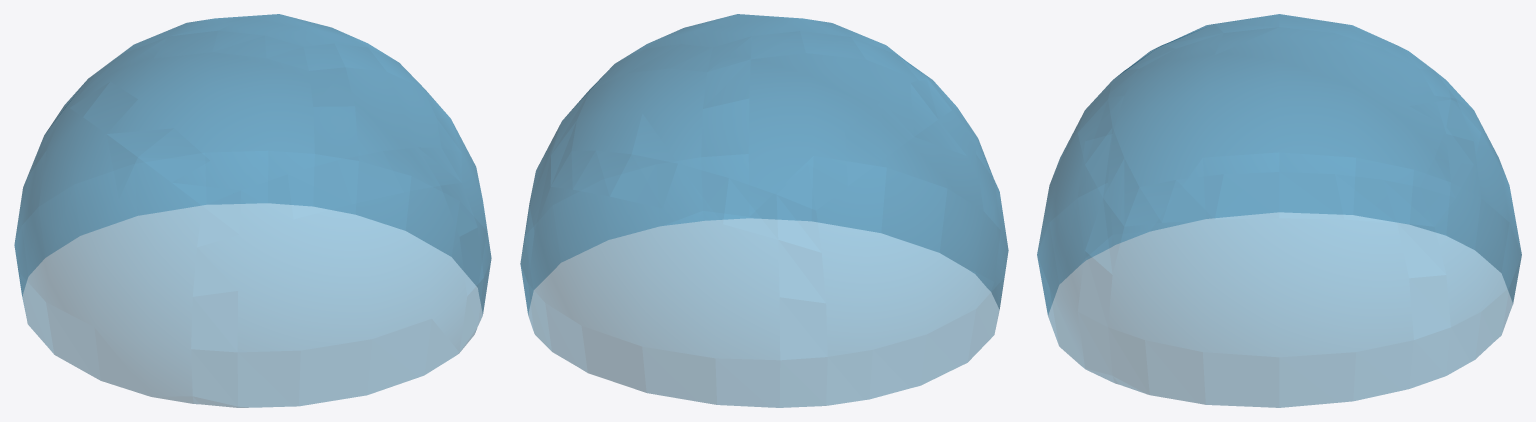
The model's file is aura_bubble.glb.
3 renders of one model, left to right at view 1: azimuth 30°, elevation 25°; view 2: azimuth 150°, elevation 25°; view 3: azimuth 270°, elevation 25°, orthographic. The views are drawn at different scales.
Parts seen in each view (by area): view 1: Object_2; view 2: Object_2; view 3: Object_2.
Part boxes in pixels (x1,y1,x2,y2): Object_2: (14, 14, 491, 407); Object_2: (520, 14, 1008, 407); Object_2: (1037, 14, 1521, 407).
Bounding box in the file's own units: 14 × 8.95 × 14.
